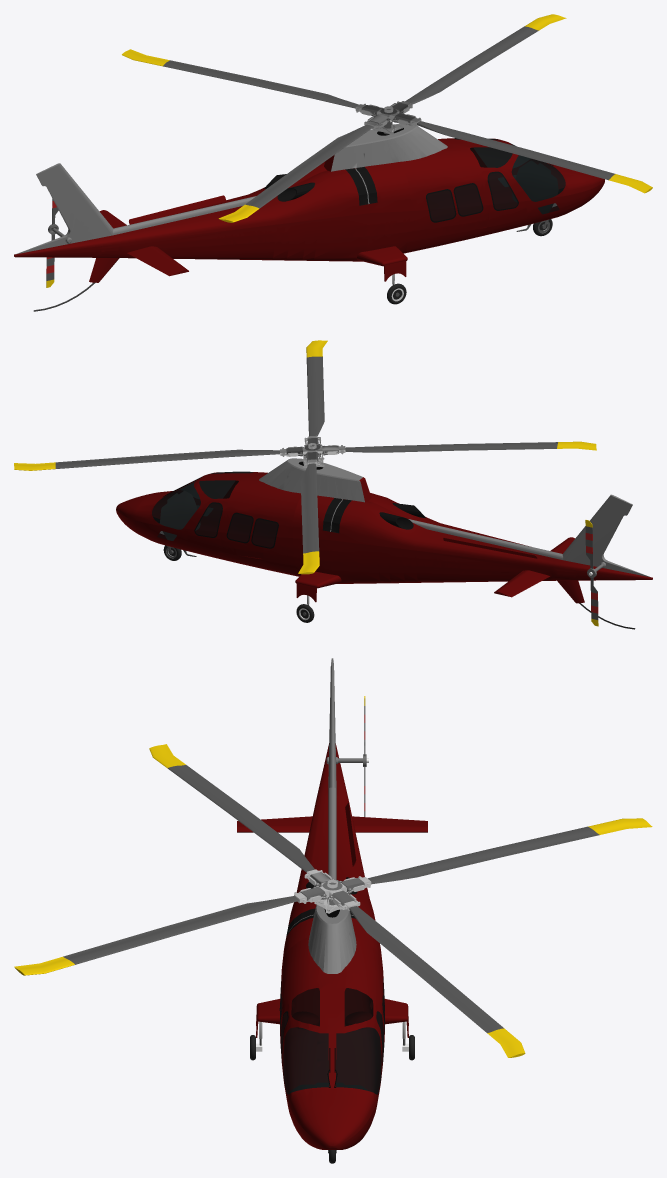
The picture shows the model from 3 angles, top to bottom: view 1: azimuth 30°, elevation 25°; view 2: azimuth 150°, elevation 25°; view 3: azimuth 270°, elevation 25°; orthographic projection. The views are drawn at different scales.
Visible parts, largest first — view 1: aw109; view 2: aw109; view 3: aw109.
Boxes of the visible parts, box(x1,y1,x2,y2) form: aw109: box(14, 14, 652, 311); aw109: box(14, 340, 652, 629); aw109: box(14, 658, 652, 1163).
Bounding box in the file's own units: 12.41 × 3.59 × 9.37.
21 materials, 21 textured.
